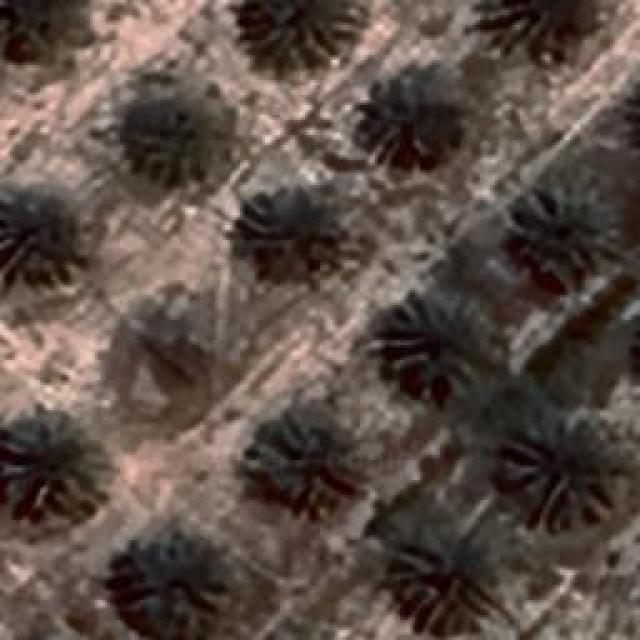PalmTree: (11, 30, 635, 121), (500, 410, 625, 525), (116, 527, 231, 640), (369, 70, 479, 188), (245, 408, 370, 510), (0, 408, 110, 518), (388, 530, 500, 635), (382, 288, 496, 390), (245, 188, 345, 280), (518, 185, 618, 275), (126, 92, 219, 186), (238, 0, 360, 70), (0, 185, 85, 285), (490, 0, 602, 48), (624, 68, 640, 173)
